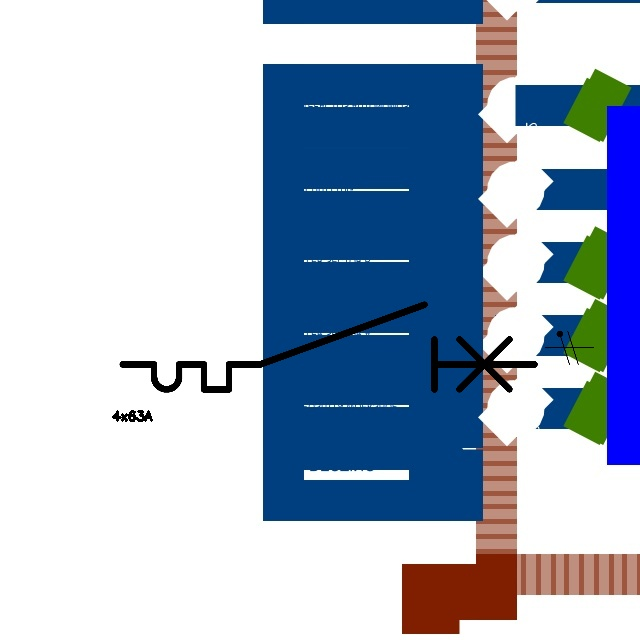interruptor_termomagnetico: (112, 294, 545, 400)
